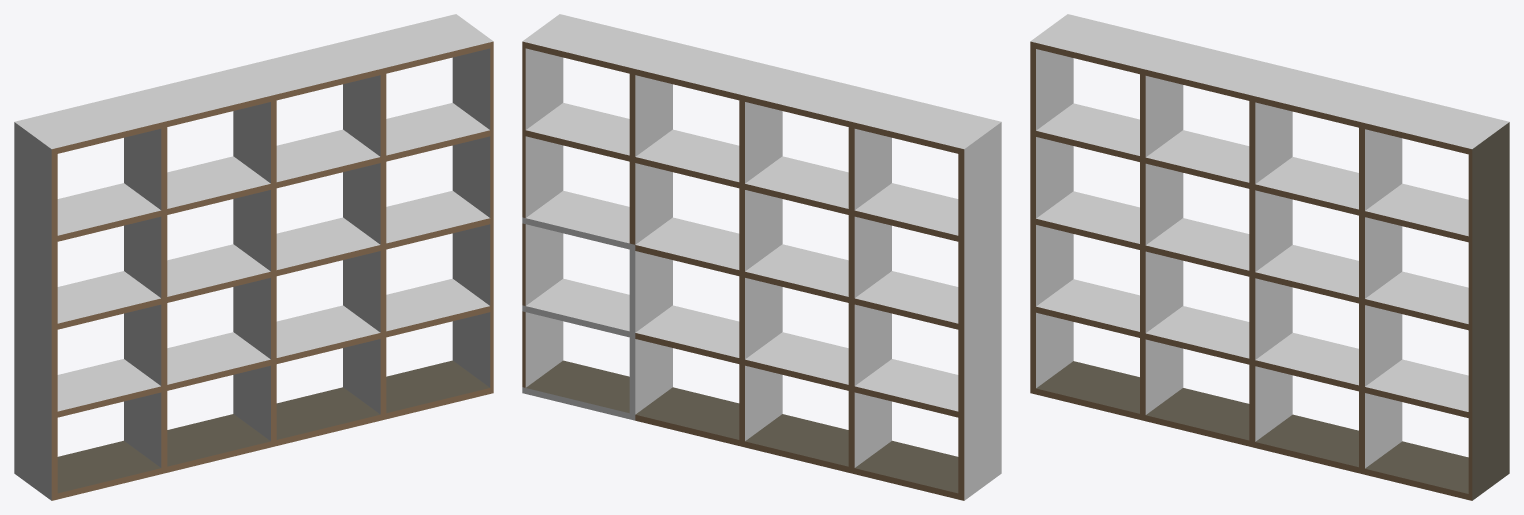
File: shelf4.obj
3 views of the same model, side by side, from view 1: azimuth 30°, elevation 25°; view 2: azimuth 150°, elevation 25°; view 3: azimuth 330°, elevation 25° (orthographic).
Visible parts, largest first — view 1: Mesh1 Model; view 2: Mesh1 Model; view 3: Mesh1 Model.
Part boxes in pixels (x1,y1,x2,y2): Mesh1 Model: [14, 14, 493, 500]; Mesh1 Model: [522, 14, 1001, 500]; Mesh1 Model: [1030, 14, 1509, 500].
Bounding box in the file's own units: 2.53 × 1.92 × 0.3713.
